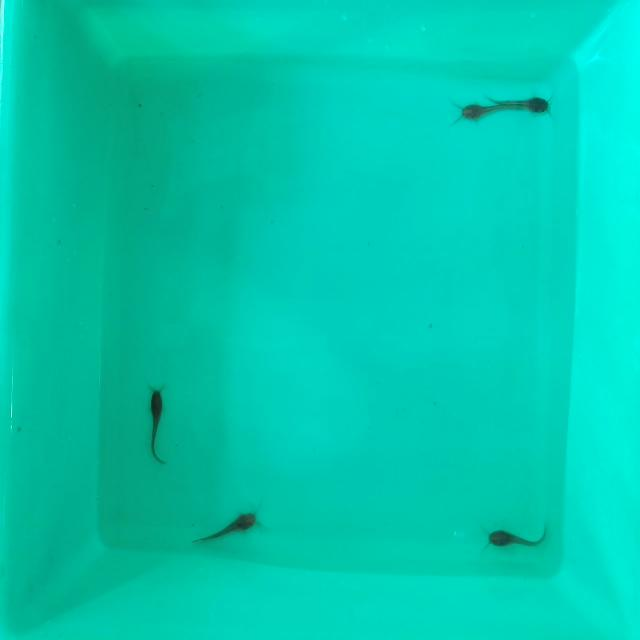lele: (190, 507, 256, 546), (458, 88, 506, 127), (147, 390, 169, 463), (503, 90, 553, 116), (491, 524, 550, 546)
